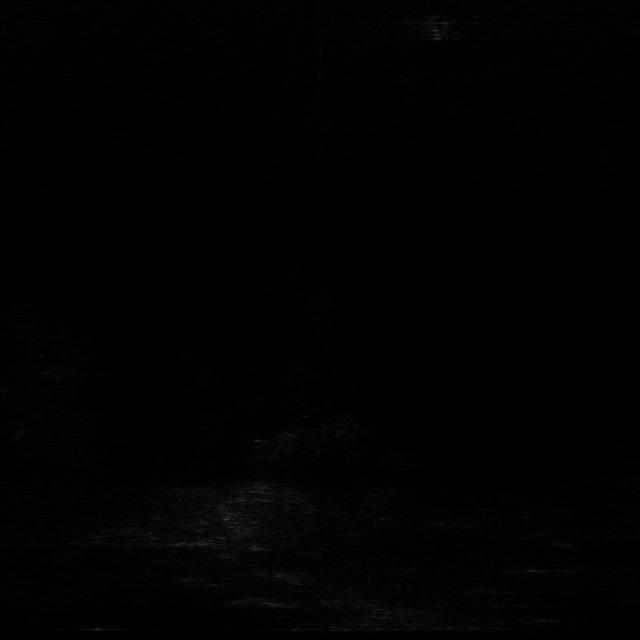rov: (418, 13, 456, 42)
